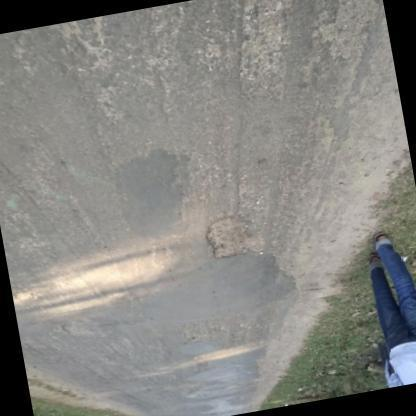pothole: (206, 213, 260, 260)
